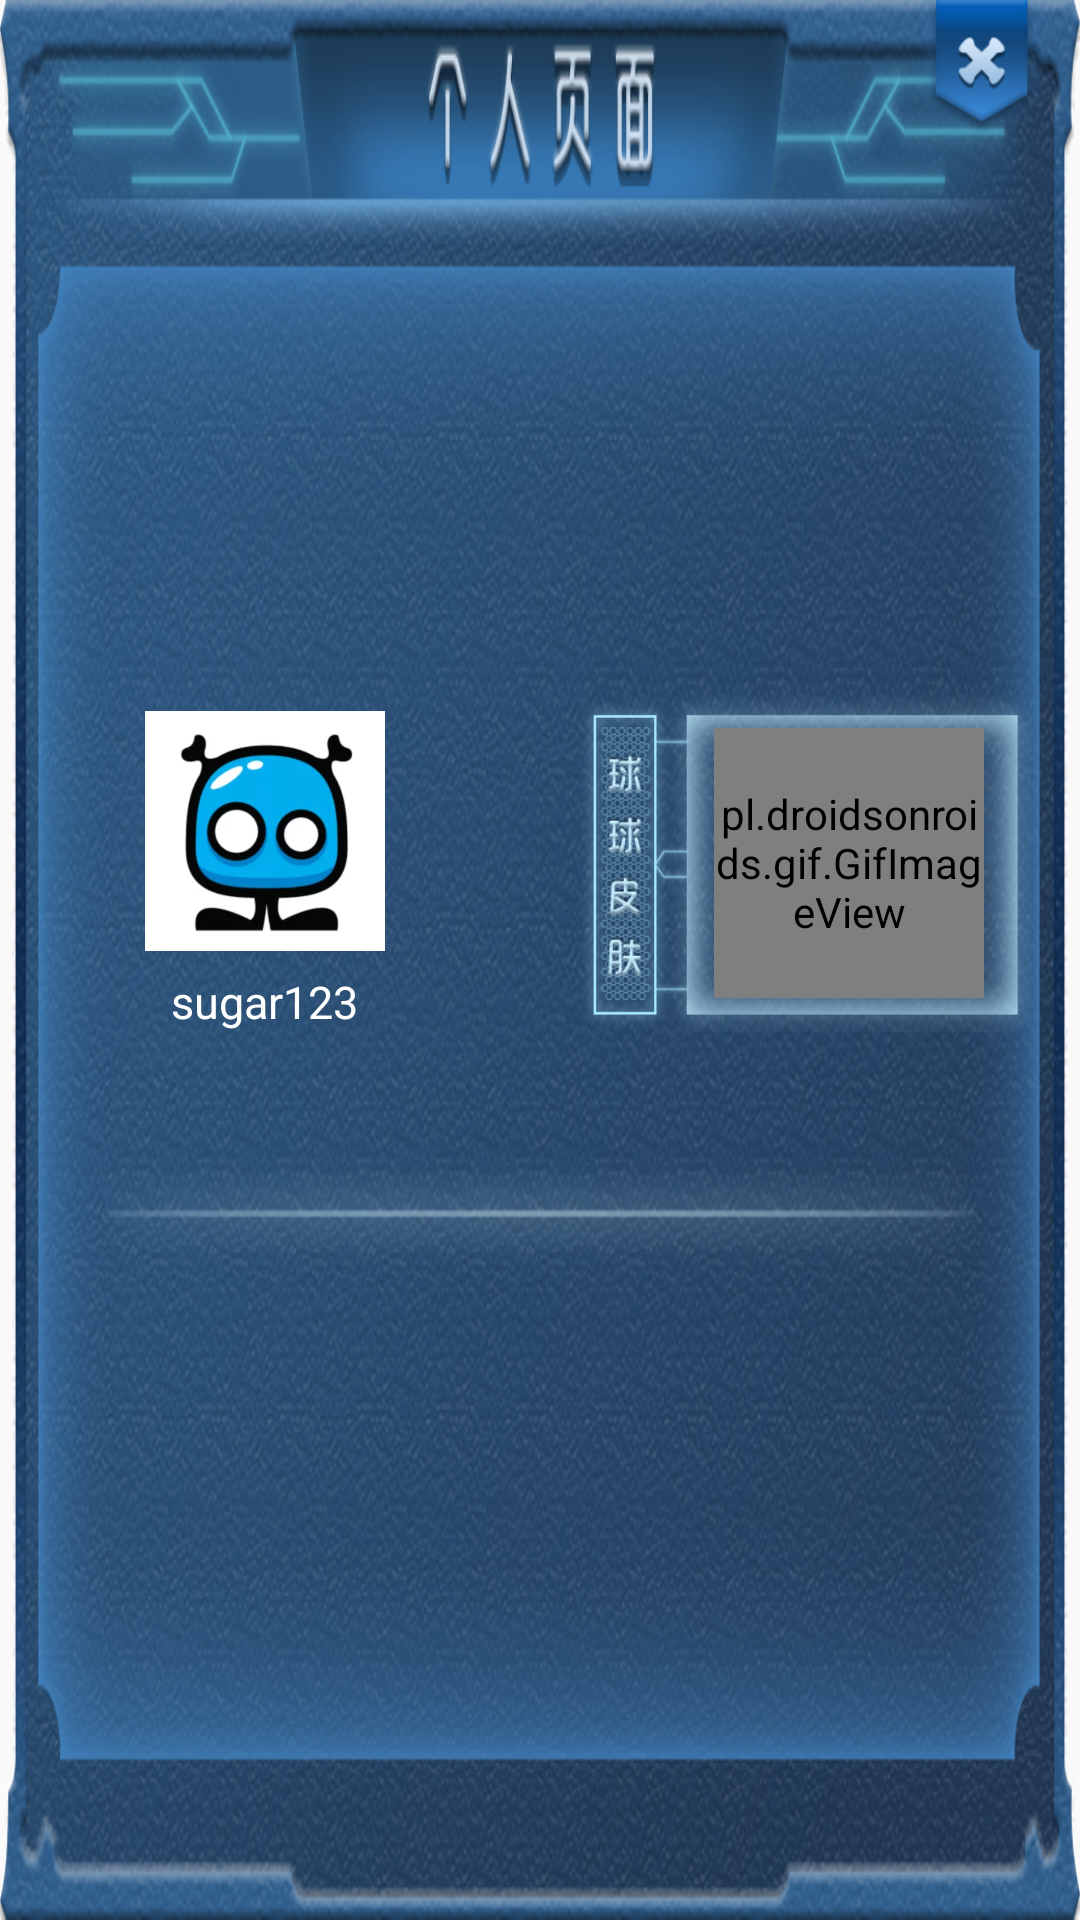

Icons on this 1080px×1920px Android screen, each with the point to tap as [x,y]:
personal profile: [265,831]
